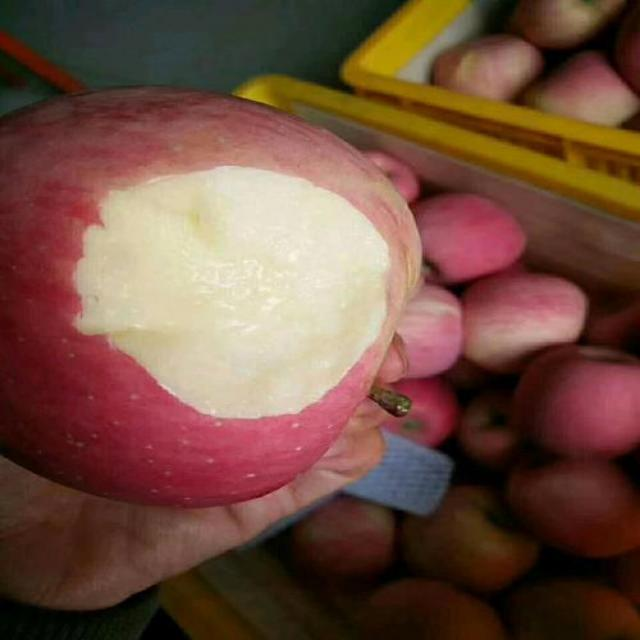Fresh Apple: (488, 340, 640, 460), (514, 449, 640, 558), (469, 269, 589, 369)
Rotten: (0, 78, 433, 488)
